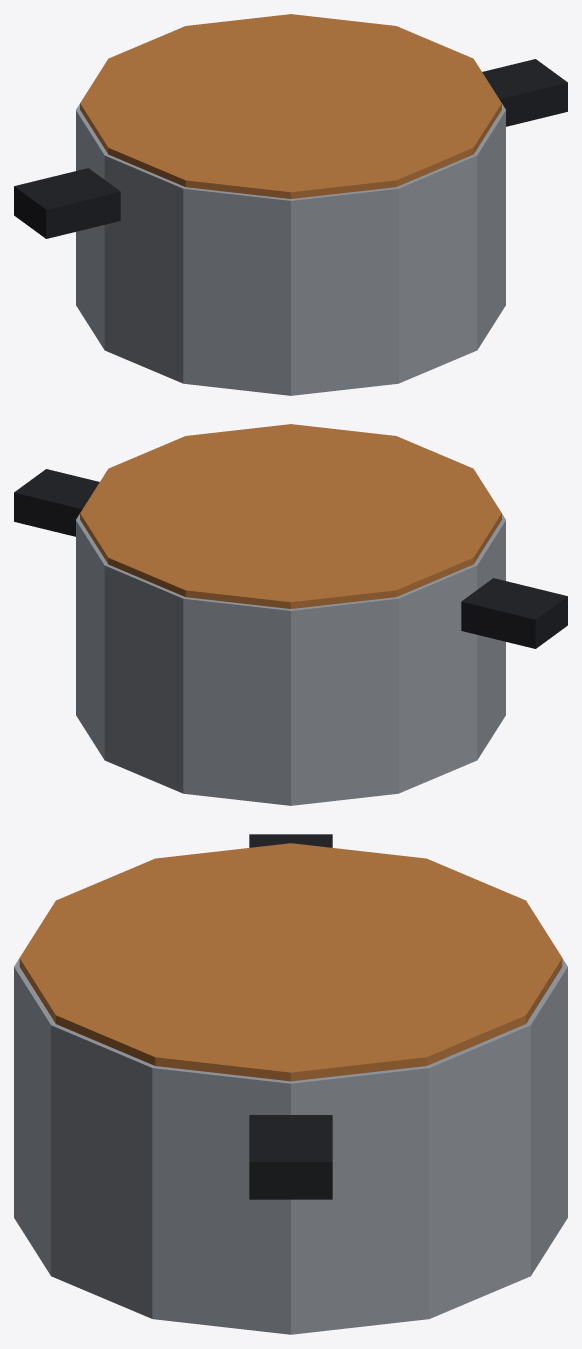
File: pot.fbx
The picture shows the model from 3 angles, top to bottom: view 1: azimuth 30°, elevation 25°; view 2: azimuth 150°, elevation 25°; view 3: azimuth 270°, elevation 25°; orthographic projection. The views are drawn at different scales.
Parts seen in each view (by area): view 1: pot; view 2: pot; view 3: pot.
Boxes of the visible parts, x1,y1,x2,y2 form: pot: (14, 14, 567, 395); pot: (14, 424, 567, 805); pot: (14, 834, 567, 1334).
Size of the model in its own units: 1.12 by 0.414 by 0.8.
